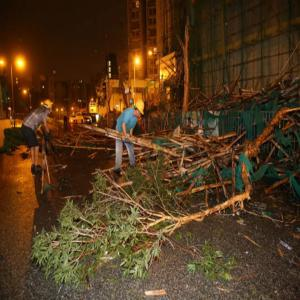yellow: (135, 100, 145, 118), (44, 100, 53, 114)
